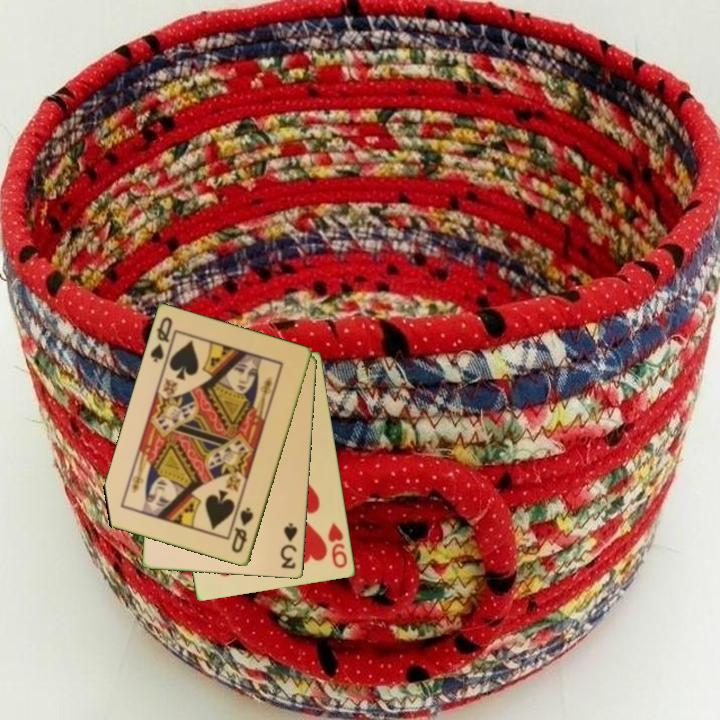3s: (278, 520, 301, 572)
9h: (325, 520, 350, 571)
Qs: (228, 504, 257, 556), (147, 314, 175, 365)
